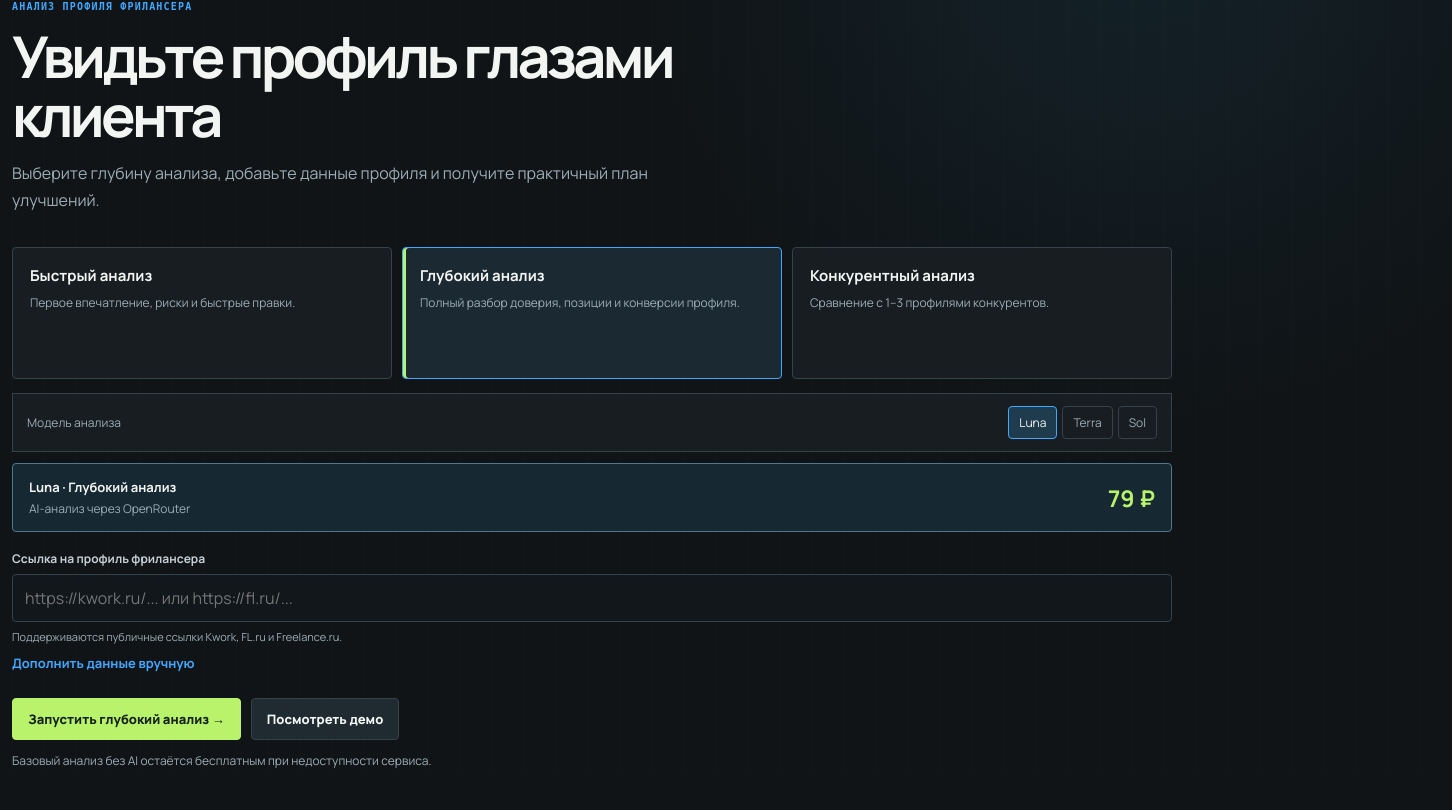
ProfileForm › offers a separate profile URL field for a competitor
What coordinates should you click on to do the following:
click the button "Конкурентный анализ Сравнение с 1–3 профилями конкурентов."
I would click on:
 (982, 313)
Its box is [792,247,1172,379].
(page scrolled)
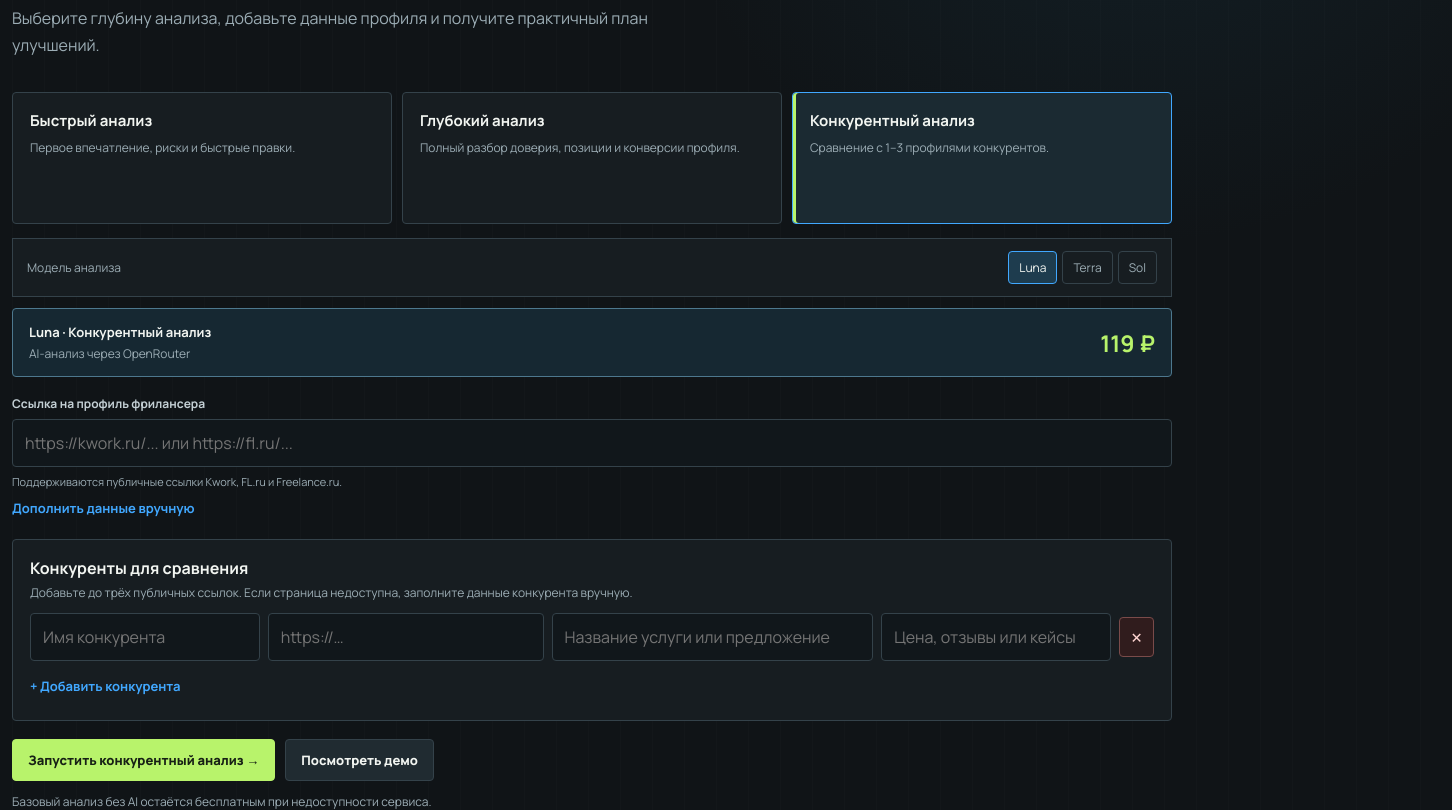
Now the field with placeholder "https://…" is shown, box [268,613,544,661]
